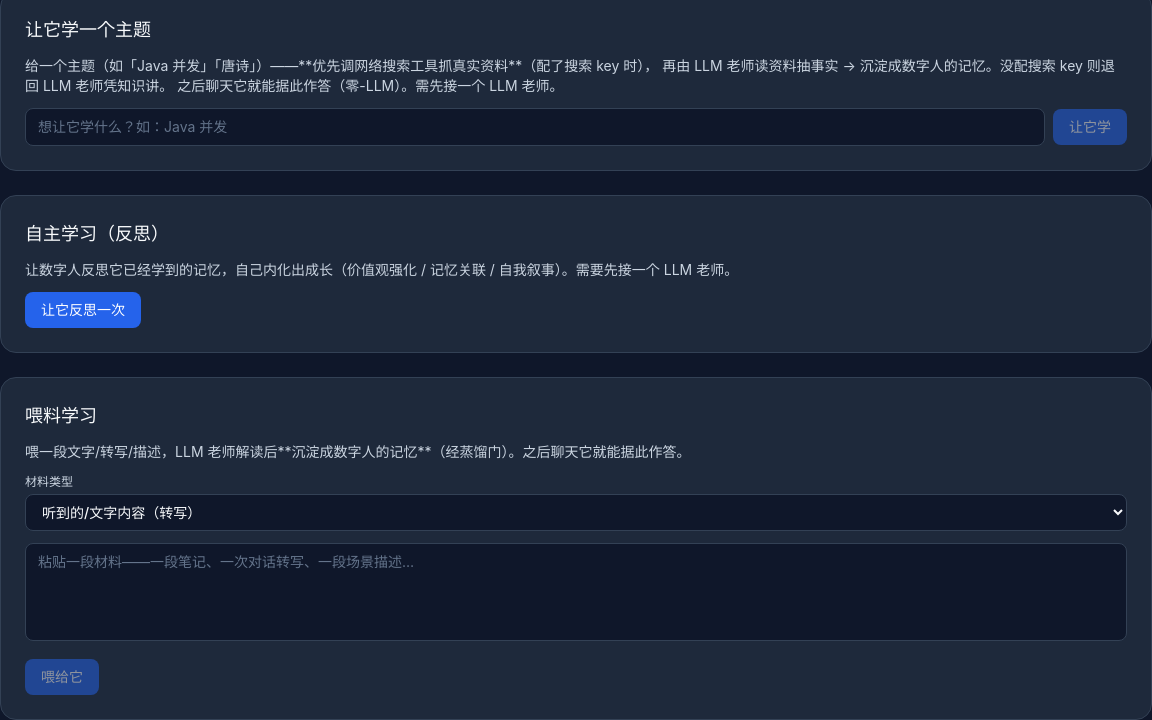
it: CompanionLearningPage（LLM 老师学习） › 喂料 → 调 perceive + 区分真老师/确定性回退
(page scrolled)
Type "今天开会很累" into the text box named "喂料输入".
click(576, 592); type("今天开会很累")  # box [25,543,1127,641]
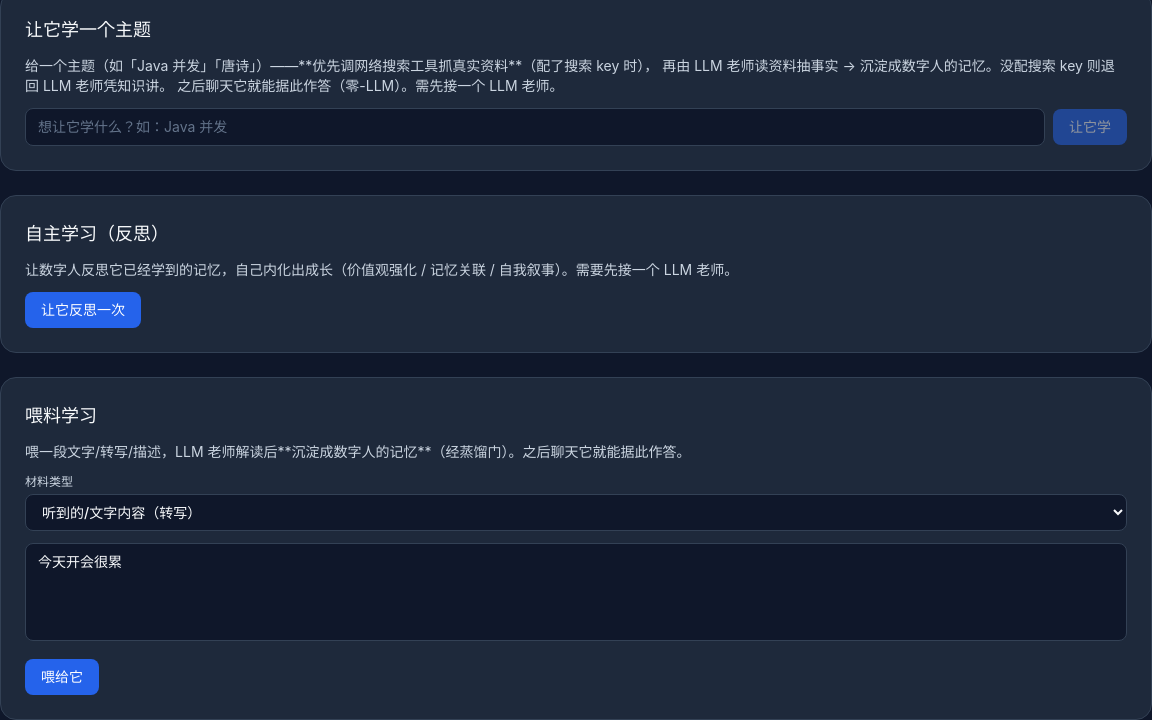
Click the button "喂给它".
click(62, 677)  # box [25,659,99,695]
(page scrolled)
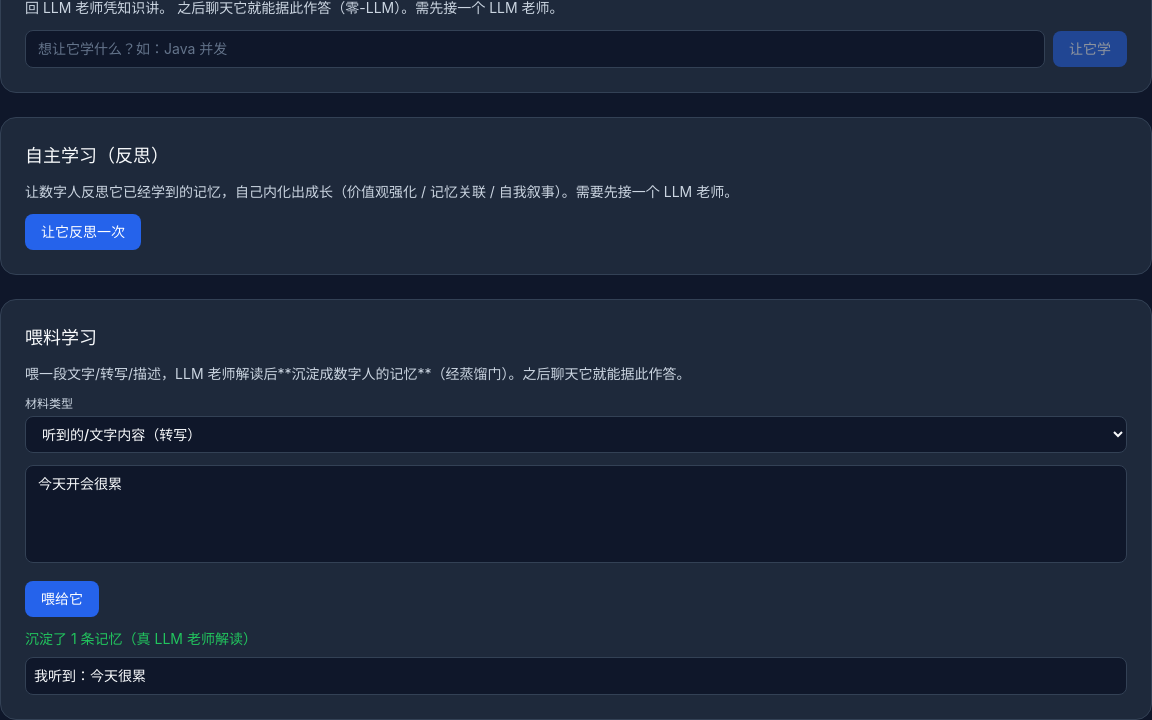
Expected: the text "沉淀了 1 条记忆（真 LLM 老师解读）" is shown, [25,630,257,647]
Expected: the list item "我听到：今天很累" is shown, [25,657,1127,695]
